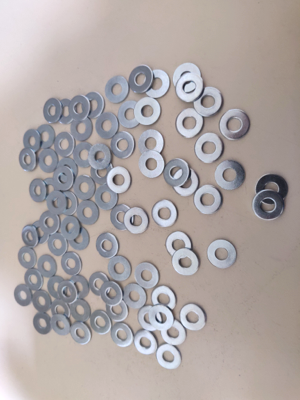circle: (219, 109, 251, 141), (253, 190, 284, 222), (215, 160, 246, 191), (256, 174, 288, 204), (194, 133, 224, 164), (207, 240, 238, 270), (134, 97, 162, 130), (175, 110, 204, 140), (194, 87, 223, 117), (176, 73, 205, 103), (193, 186, 223, 215), (174, 63, 202, 93), (110, 130, 137, 161), (138, 129, 166, 158), (143, 69, 170, 99), (128, 64, 154, 95), (171, 169, 199, 197), (68, 114, 95, 143), (172, 248, 200, 275), (152, 200, 179, 228), (139, 151, 166, 179), (105, 75, 130, 105), (95, 111, 120, 141), (106, 167, 133, 194), (180, 303, 206, 331), (166, 232, 192, 259), (161, 319, 187, 346), (156, 344, 183, 370), (165, 159, 190, 187), (138, 307, 163, 335), (117, 101, 142, 129), (149, 305, 174, 332), (76, 200, 101, 227), (125, 208, 149, 236), (123, 283, 147, 311), (88, 143, 112, 171), (73, 175, 97, 203), (110, 204, 134, 232), (69, 94, 92, 123), (134, 330, 159, 356), (100, 281, 125, 307), (135, 262, 159, 289), (94, 184, 118, 211), (81, 92, 104, 120), (90, 159, 113, 186), (54, 131, 76, 159), (109, 256, 133, 281), (152, 286, 176, 311), (67, 299, 92, 323), (96, 233, 119, 259), (67, 274, 90, 300), (111, 323, 135, 347), (39, 210, 61, 236), (42, 97, 63, 124), (35, 123, 56, 150), (89, 272, 111, 297), (90, 310, 111, 336), (21, 128, 42, 154), (73, 142, 93, 169), (70, 322, 93, 345), (106, 298, 128, 322), (23, 267, 45, 291), (46, 191, 68, 215), (38, 148, 59, 173), (57, 280, 78, 305), (53, 166, 74, 191), (68, 227, 89, 252), (47, 232, 68, 257), (60, 215, 80, 241), (32, 313, 54, 336), (61, 252, 82, 276), (47, 275, 66, 301), (50, 299, 71, 322), (51, 314, 71, 337), (37, 255, 57, 278), (18, 148, 37, 172), (14, 284, 33, 308), (28, 179, 47, 203), (32, 290, 51, 313), (18, 246, 36, 270), (22, 225, 39, 249)
